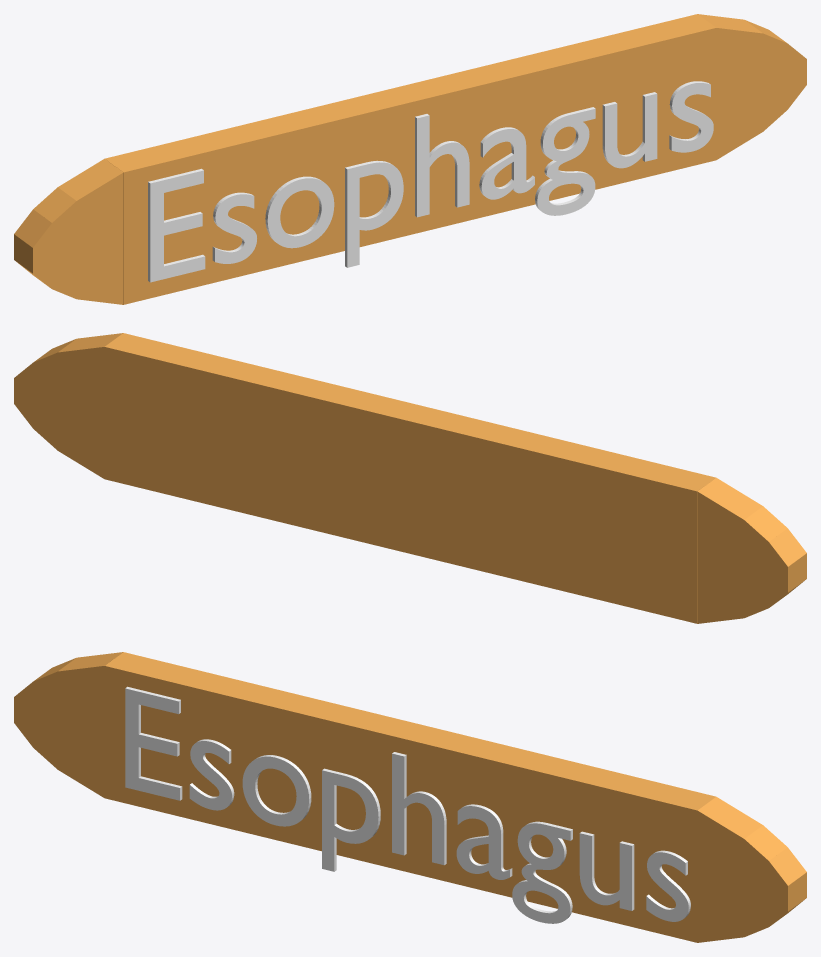
Rendered from txtEsophagus.fbx.
3 renders of one model, top to bottom at view 1: azimuth 30°, elevation 25°; view 2: azimuth 150°, elevation 25°; view 3: azimuth 330°, elevation 25°, orthographic.
Visible parts, largest first — view 1: TagContainer.023, Text.023; view 2: TagContainer.023; view 3: TagContainer.023, Text.023.
Boxes of the visible parts, box(x1,y1,x2,y2) form: TagContainer.023: box(14, 14, 806, 304); Text.023: box(148, 81, 713, 282); TagContainer.023: box(14, 333, 806, 623); TagContainer.023: box(14, 652, 806, 942); Text.023: box(125, 686, 690, 923).
Bounding box in the file's own units: 253 × 45.8 × 12.45.
